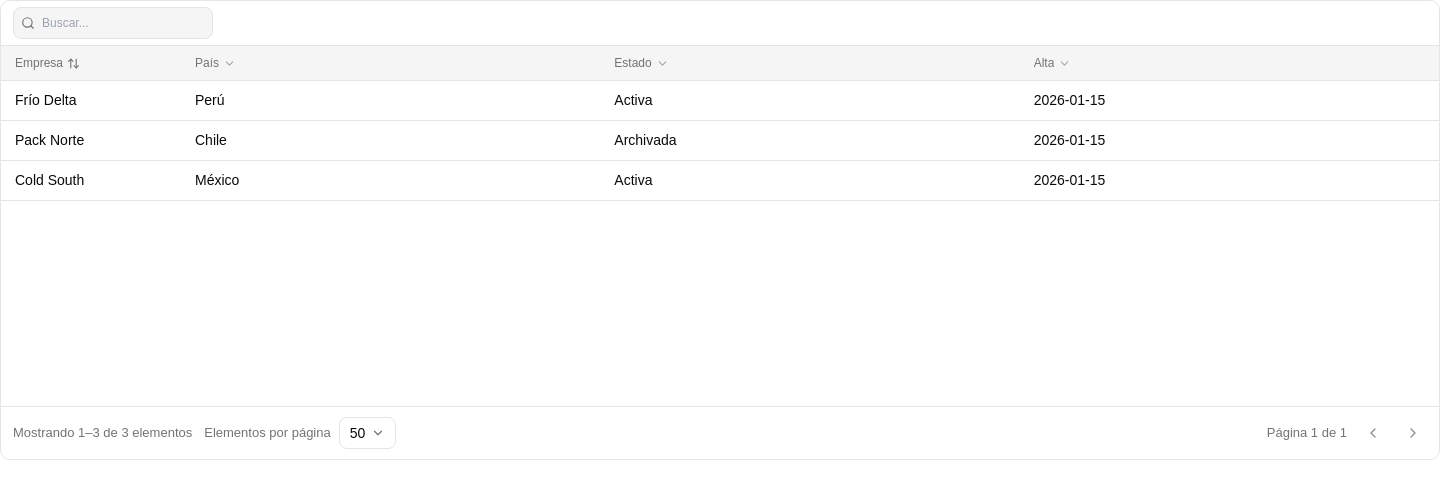
Scenario: on desktop the date menu keeps its size when the Entre (rango) inputs arrive
Click the button "Alta" at coordinates (1044, 63), box x1=1034 y1=54 x2=1425 y2=72
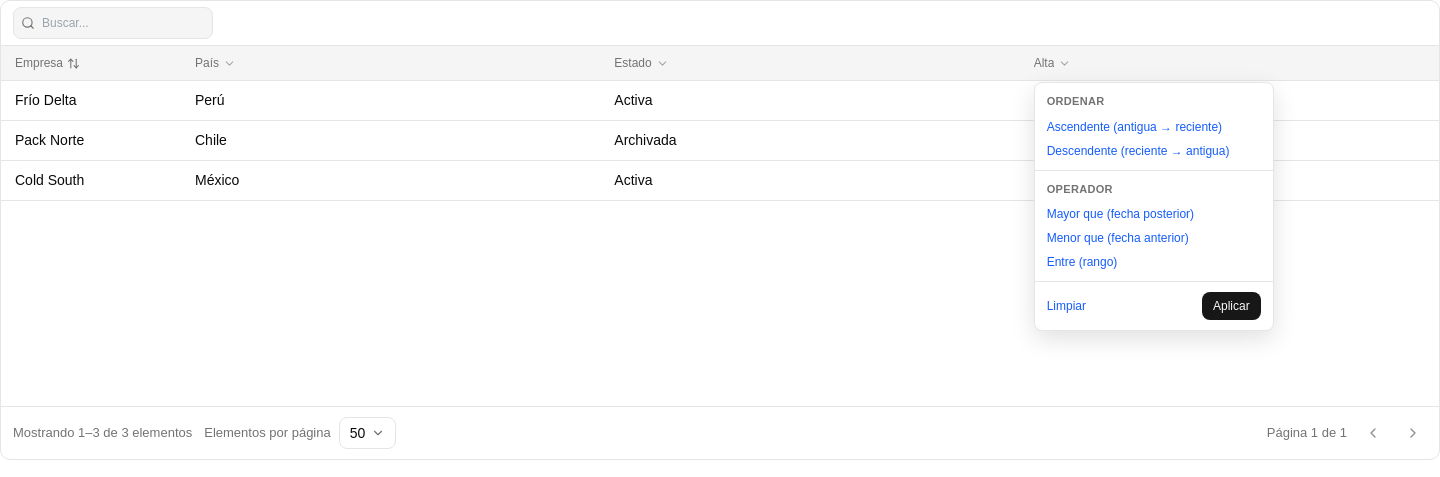
Click the button "Entre (rango)" at coordinates (1154, 262), box x1=1047 y1=253 x2=1261 y2=271
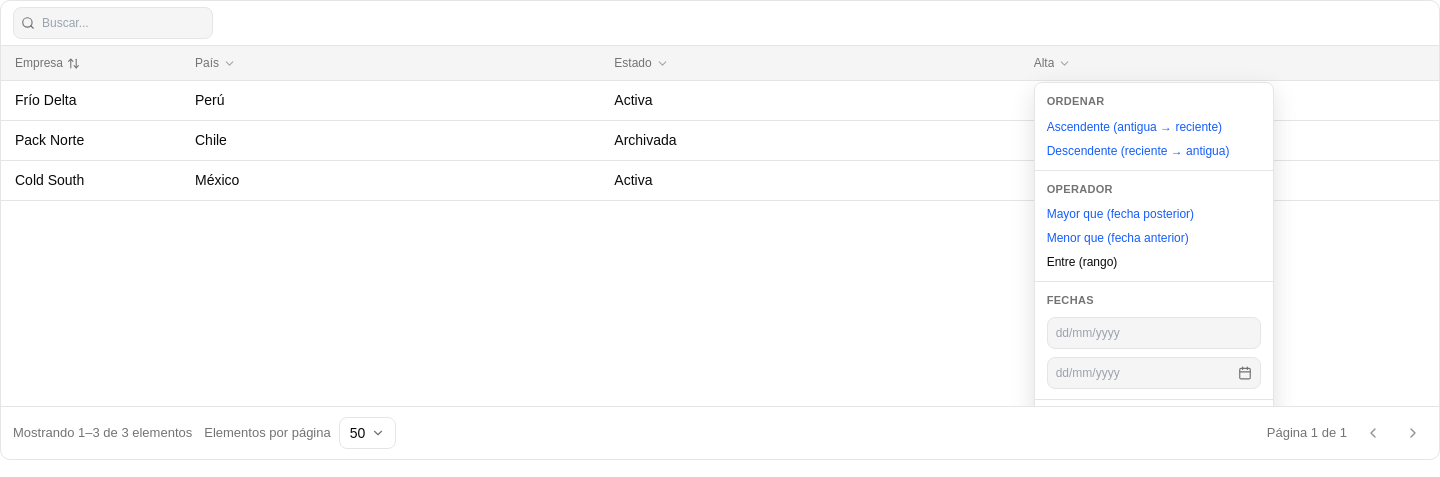
Check: the button named "Seleccionar rango" is shown, box x1=1233 y1=360 x2=1257 y2=384
